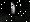person: (13, 1, 23, 17)
